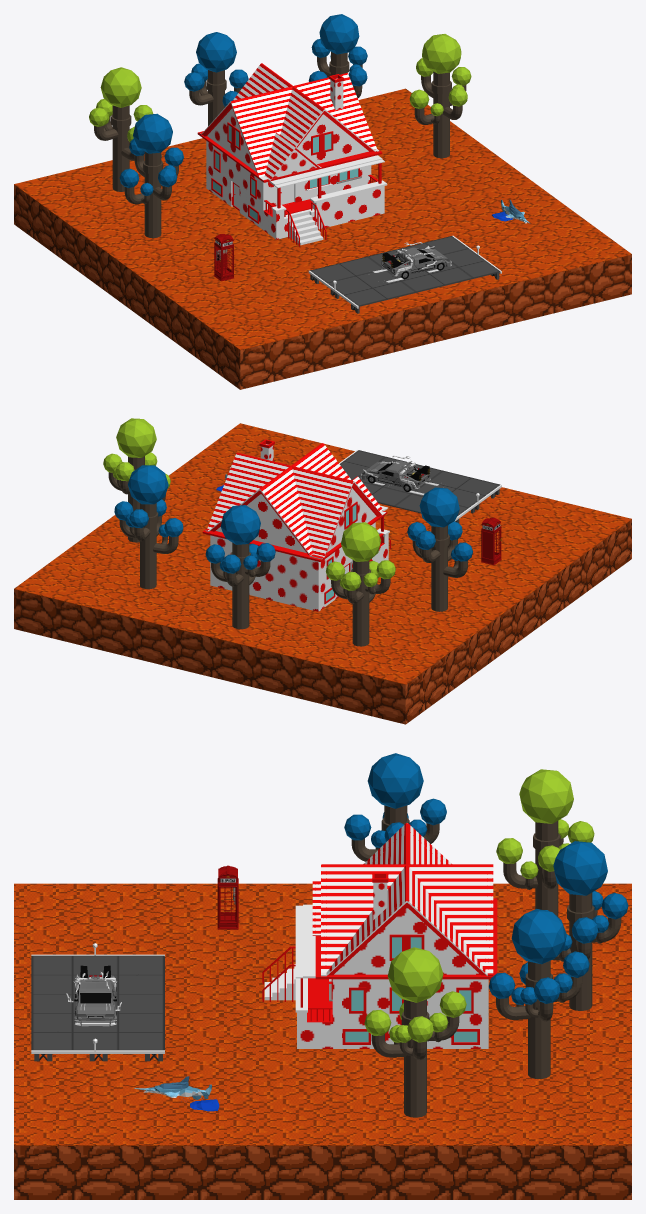
The picture shows the model from 3 angles, top to bottom: view 1: azimuth 30°, elevation 25°; view 2: azimuth 150°, elevation 25°; view 3: azimuth 270°, elevation 25°; orthographic projection. The views are drawn at different scales.
Parts seen in each view (by area): view 1: Cube.001, Cube.196, VEHICLES_DELOREAN, OBJRANDOM_PHONEBOOTH; view 2: Cube.001, Cube.196, VEHICLES_DELOREAN, OBJRANDOM_PHONEBOOTH; view 3: Cube.001, Cube.196, VEHICLES_DELOREAN, OBJRANDOM_PHONEBOOTH, ANIMAL_PEZ_ESPADA.
Part boxes in pixels (bbox=[...]): Cube.001: bbox=[14, 14, 631, 389]; Cube.196: bbox=[197, 63, 387, 246]; VEHICLES_DELOREAN: bbox=[373, 242, 451, 282]; OBJRANDOM_PHONEBOOTH: bbox=[213, 234, 233, 281]; Cube.001: bbox=[14, 418, 631, 724]; Cube.196: bbox=[202, 439, 390, 611]; VEHICLES_DELOREAN: bbox=[360, 455, 441, 495]; OBJRANDOM_PHONEBOOTH: bbox=[481, 517, 501, 565]; Cube.001: bbox=[14, 753, 631, 1199]; Cube.196: bbox=[262, 823, 497, 1048]; VEHICLES_DELOREAN: bbox=[66, 965, 121, 1026]; OBJRANDOM_PHONEBOOTH: bbox=[217, 865, 238, 929]; ANIMAL_PEZ_ESPADA: bbox=[134, 1076, 219, 1111].
Bounding box in the file's own units: 4000 × 1642 × 4000.
Materials: 44 (5 with a texture image).
